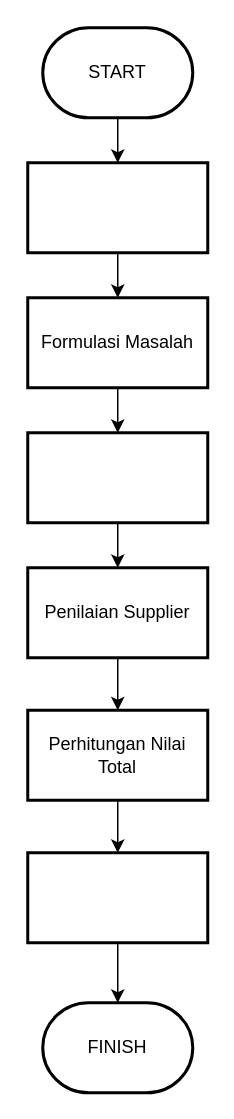
Some shapes in this 234 by 1119 pixel diagram are drawn without their labels. Here are the shapes that lost their labels. From the top down, the centre of each, then its label:
At (x=117, y=207): "Identifikasi Masalah".
At (x=117, y=477): "Penentuan Kriteria dan Bobot".
At (x=117, y=897): "Penentuan Supplier yang paling sesuai".
